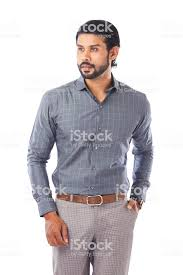F_belt: (52, 188, 135, 212)
F_shirt: (23, 79, 165, 214)
